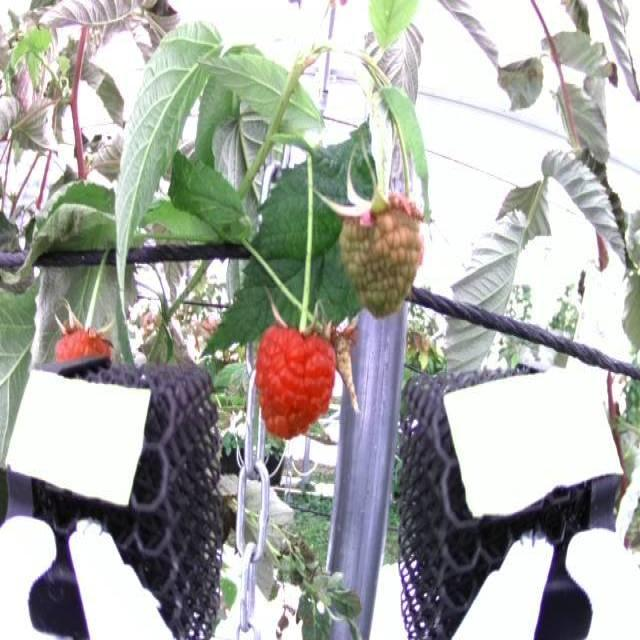Riped berries: (248, 307, 340, 433), (57, 312, 115, 358)
